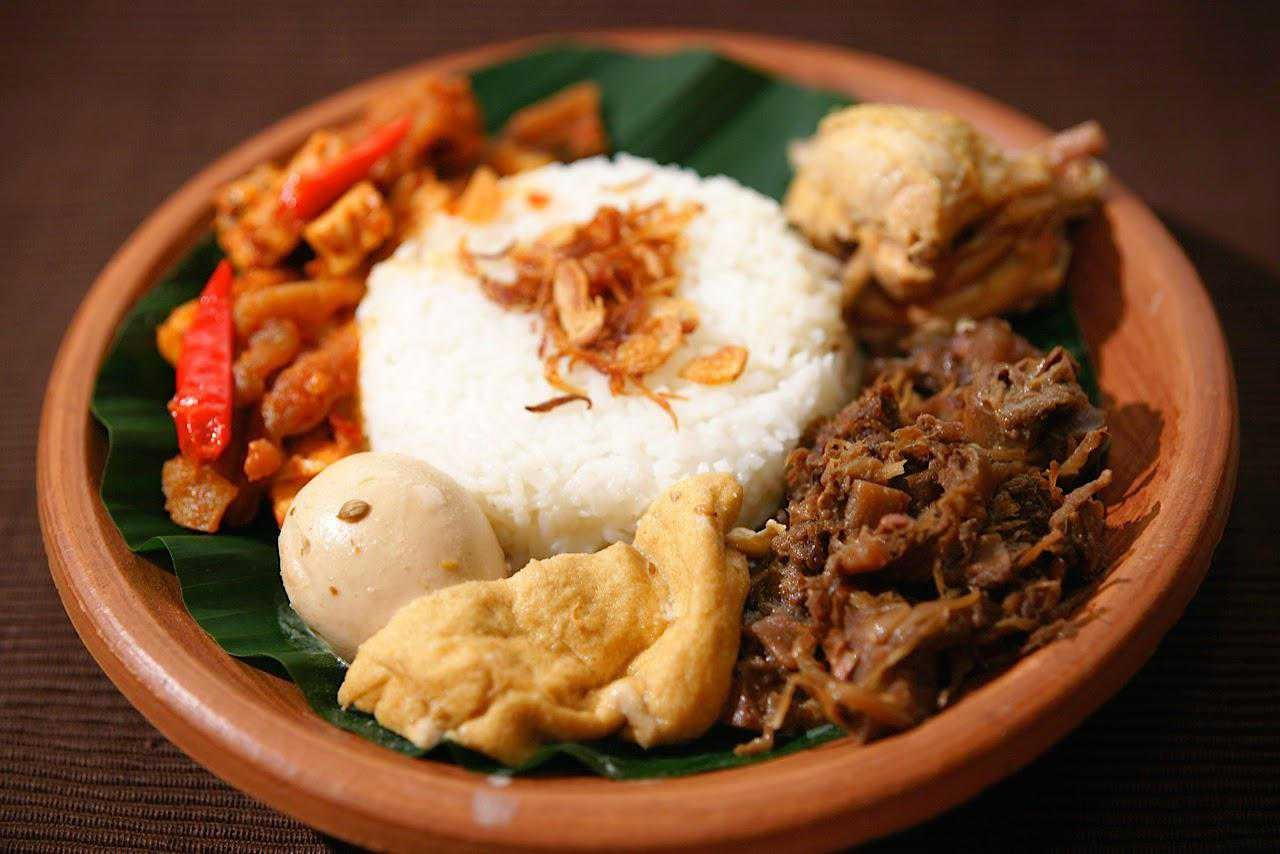gudeg: (118, 90, 1141, 730)
